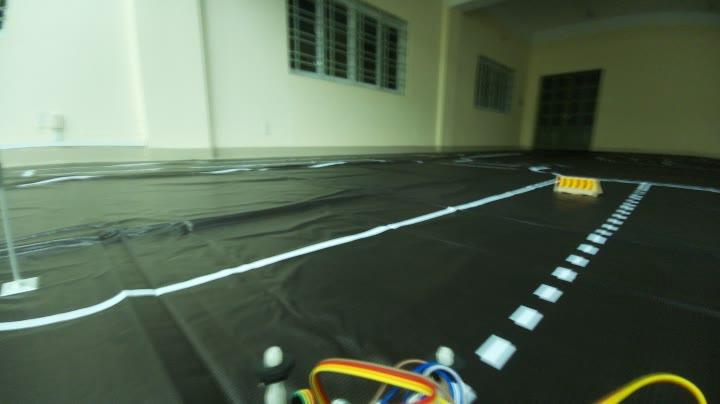roadblock: (550, 170, 598, 204)
